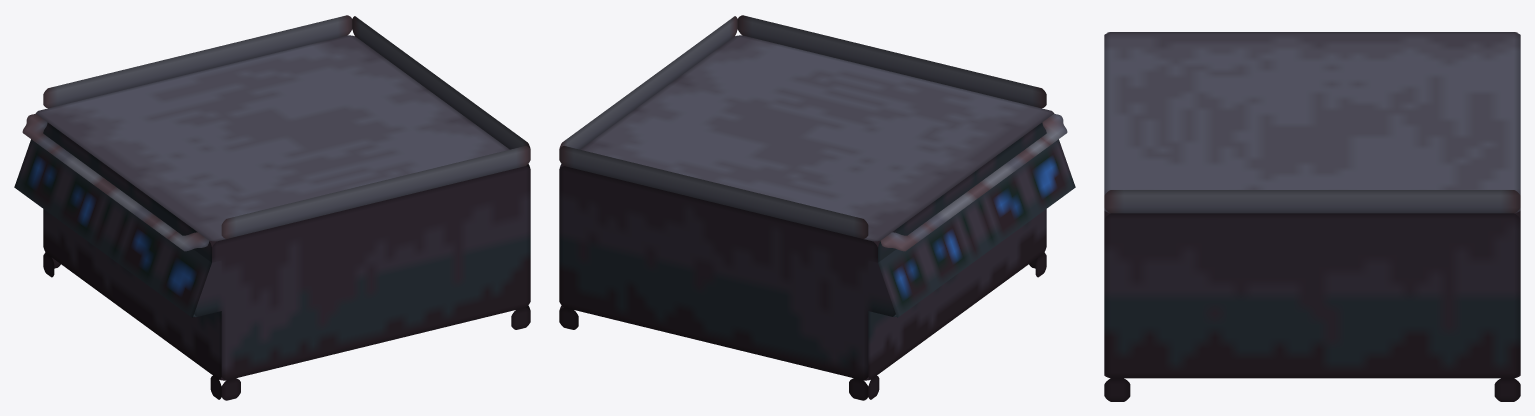
File: Spookjam_Grill_Clean.obj
The picture shows the model from 3 angles, left to right: view 1: azimuth 30°, elevation 25°; view 2: azimuth 150°, elevation 25°; view 3: azimuth 270°, elevation 25°; orthographic projection. The views are drawn at different scales.
Parts seen in each view (by area): view 1: Grill_Body, Top_wall_3, Top_wall_1, Top_wall_2, Safety_Bar, Leg_2; view 2: Grill_Body, Top_wall_1, Top_wall_3, Top_wall_2, Safety_Bar, Leg_1; view 3: Grill_Body, Top_wall_2, Leg_3, Leg_4.
Boxes of the visible parts, box(x1,y1,x2,y2) form: Grill_Body: box(14, 35, 530, 380); Top_wall_3: box(43, 15, 352, 108); Top_wall_1: box(221, 146, 530, 238); Top_wall_2: box(352, 16, 530, 149); Safety_Bar: box(22, 114, 209, 251); Leg_2: box(210, 375, 240, 400); Grill_Body: box(559, 35, 1075, 380); Top_wall_1: box(737, 15, 1046, 108); Top_wall_3: box(559, 146, 868, 238); Top_wall_2: box(559, 16, 737, 149); Safety_Bar: box(880, 114, 1067, 251); Leg_1: box(849, 375, 879, 400); Grill_Body: box(1104, 32, 1520, 378); Top_wall_2: box(1104, 190, 1520, 213); Leg_3: box(1104, 378, 1130, 401); Leg_4: box(1494, 378, 1520, 401).
Bounding box in the file's own units: 1.09 × 0.5625 × 1.
1 material, 1 textured.
